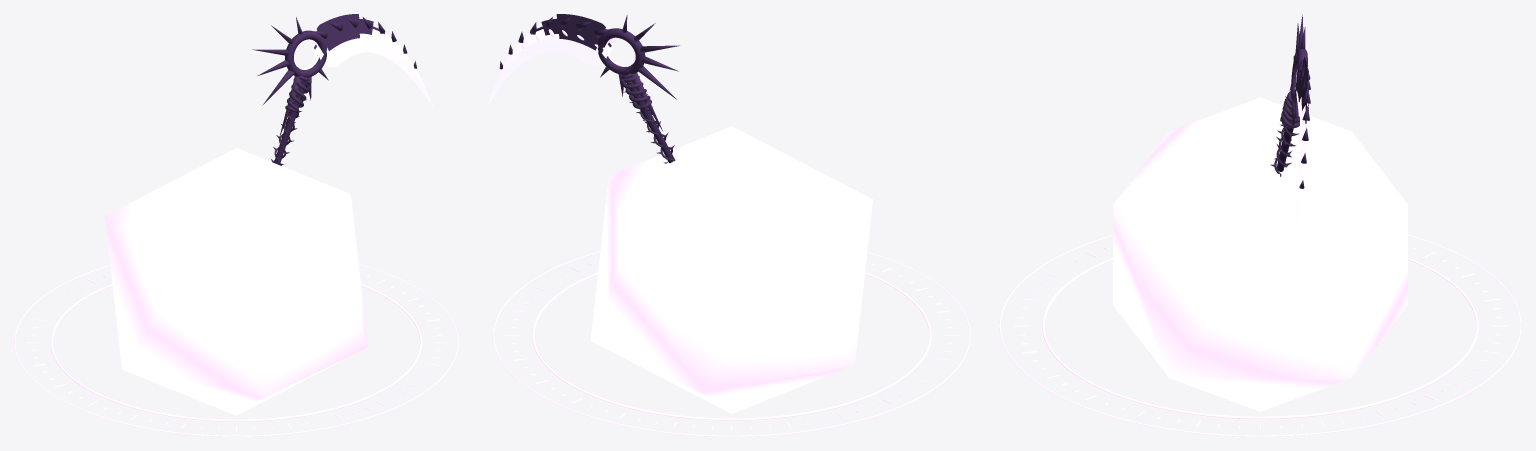
File: voracity.glb
The picture shows the model from 3 angles, left to right: view 1: azimuth 30°, elevation 25°; view 2: azimuth 150°, elevation 25°; view 3: azimuth 270°, elevation 25°; orthographic projection. The views are drawn at different scales.
Visible parts, largest first — view 1: EmberProto, Blade, FloorRing, FloorRing2, CrownThorns, MantlePlate2, Ring, FloorRunes, Shaft; view 2: EmberProto, Blade, FloorRing, FloorRing2, CrownThorns, MantlePlate2, Ring, FloorRunes, Shaft; view 3: EmberProto, FloorRing, FloorRing2, Blade, FloorRunes.
Part boxes in pixels (x1,y1,x2,y2): EmberProto: (105, 148, 367, 415); Blade: (313, 29, 433, 107); FloorRing: (50, 283, 422, 421); FloorRing2: (14, 264, 458, 436); CrownThorns: (252, 17, 328, 137); MantlePlate2: (317, 14, 359, 50); Ring: (285, 30, 326, 77); FloorRunes: (26, 275, 446, 431); Shaft: (274, 77, 307, 164); EmberProto: (590, 126, 873, 413); Blade: (487, 29, 612, 106); FloorRing: (532, 272, 931, 420); FloorRing2: (493, 251, 970, 436); CrownThorns: (600, 15, 679, 130); MantlePlate2: (556, 14, 605, 50); Ring: (597, 28, 645, 74); FloorRunes: (505, 263, 958, 431); Shaft: (622, 75, 674, 163); EmberProto: (1113, 97, 1407, 411); FloorRing: (1042, 257, 1478, 419); FloorRing2: (999, 235, 1521, 436); Blade: (1294, 87, 1309, 245); FloorRunes: (1013, 247, 1507, 430).
Size of what is drawn, in the model's own units: 3.16 by 2.74 by 3.01.
